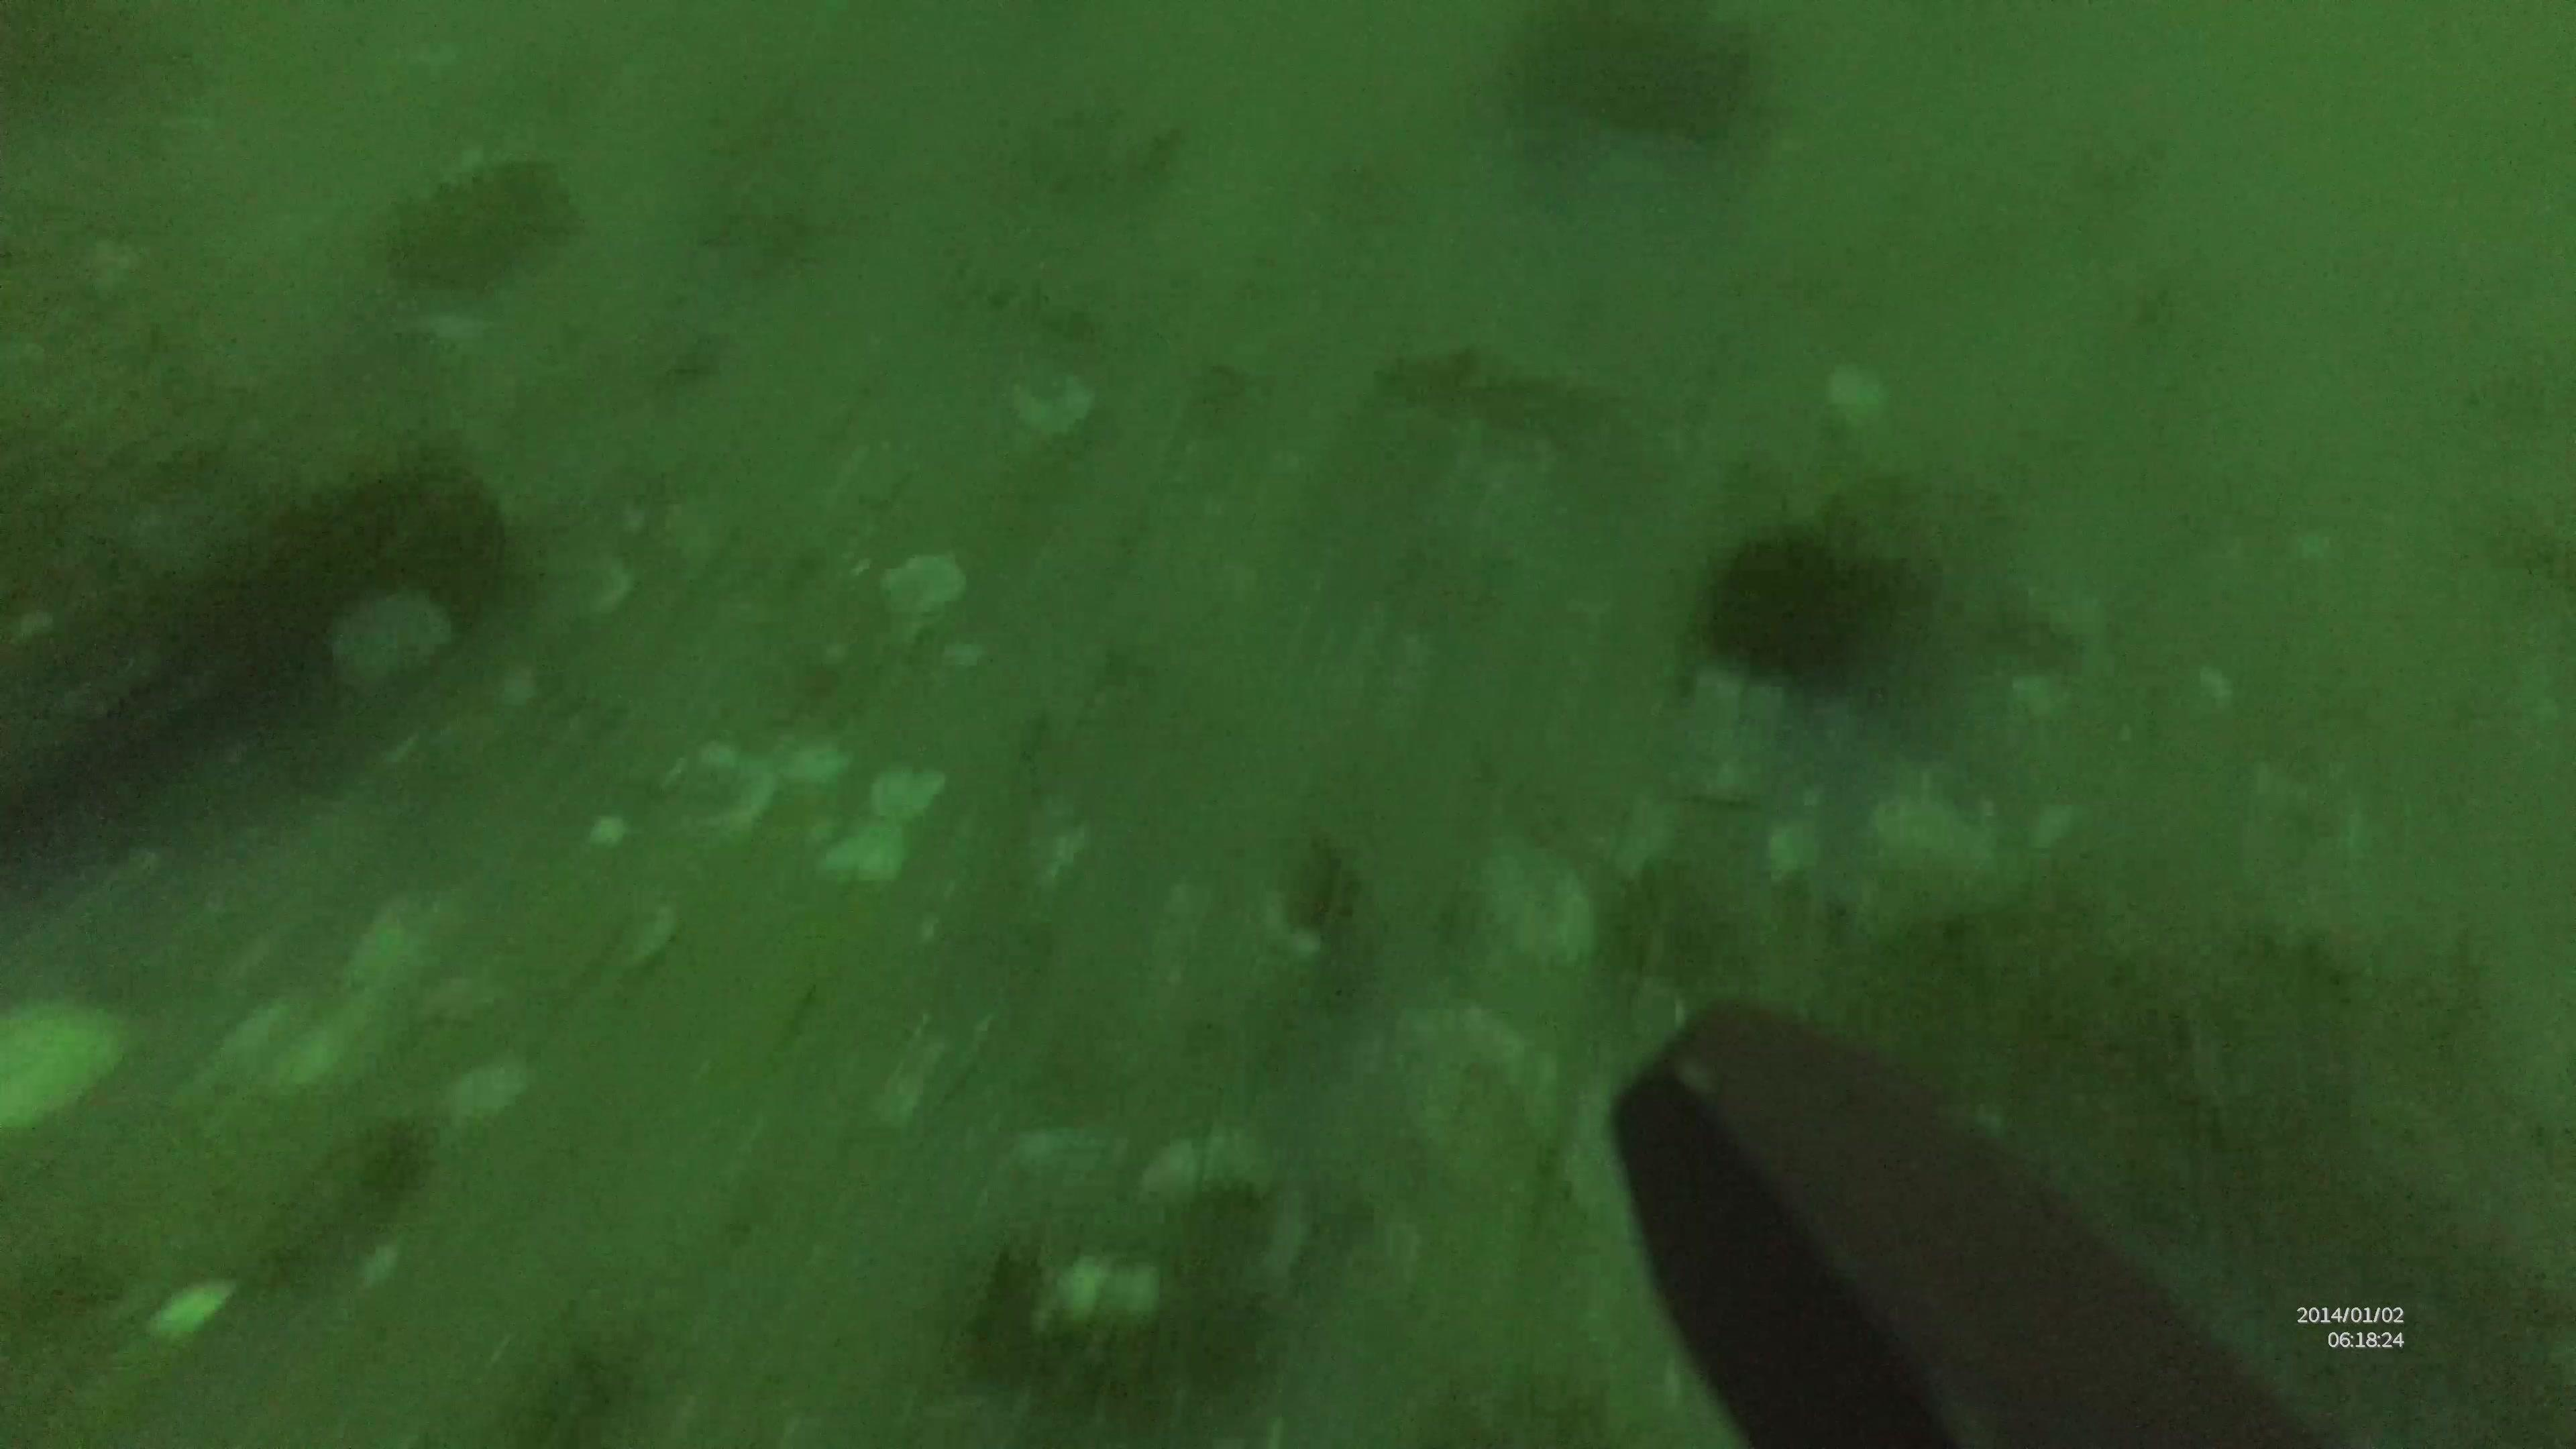echinus: (1674, 527, 1916, 681)
scallop: (1771, 782, 2026, 948), (1493, 830, 1592, 982), (1815, 356, 1882, 435)
